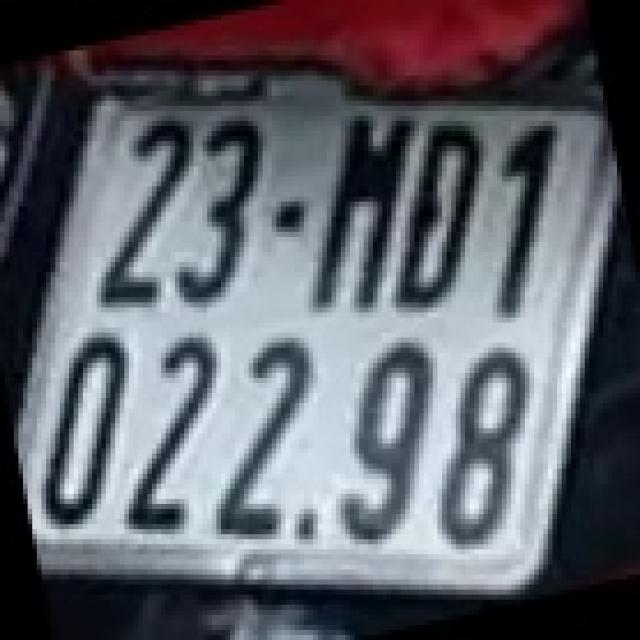0: (37, 333, 124, 529)
1: (493, 121, 557, 317)
2: (216, 338, 308, 534), (96, 121, 188, 302), (129, 333, 212, 529)
3: (179, 121, 258, 302)
8: (437, 348, 525, 549)
9: (341, 338, 428, 544)
D: (400, 121, 479, 307)
M: (297, 103, 394, 310)
